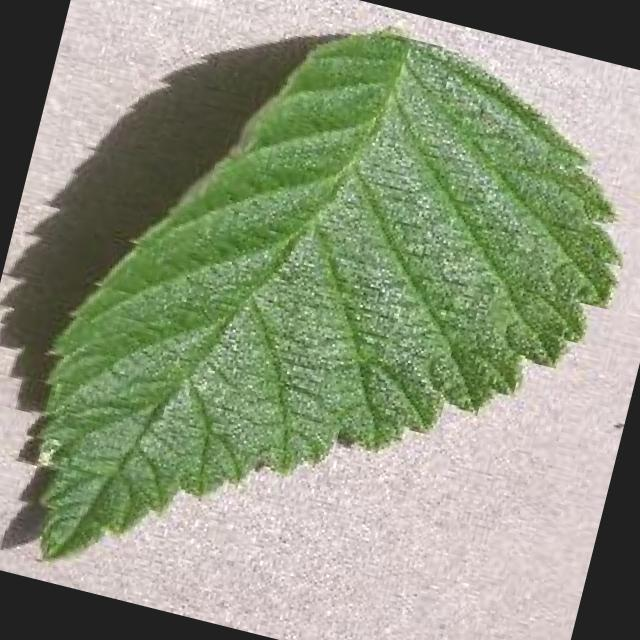healthy: (39, 34, 615, 559)
